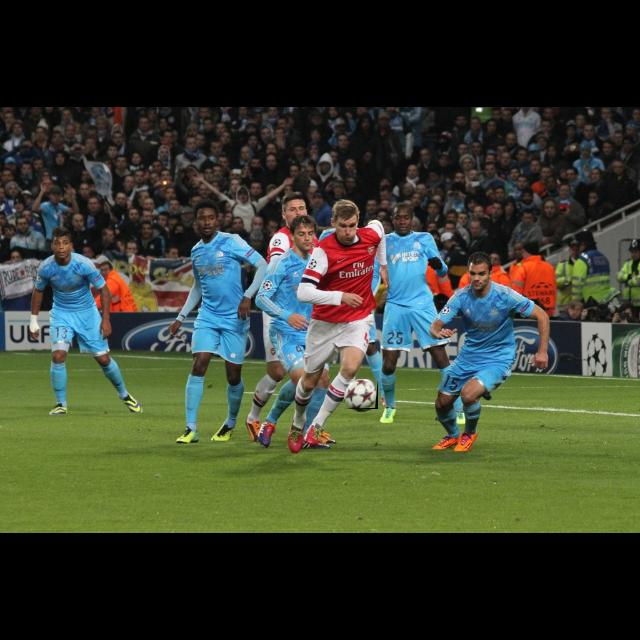Football: (344, 379, 378, 409)
